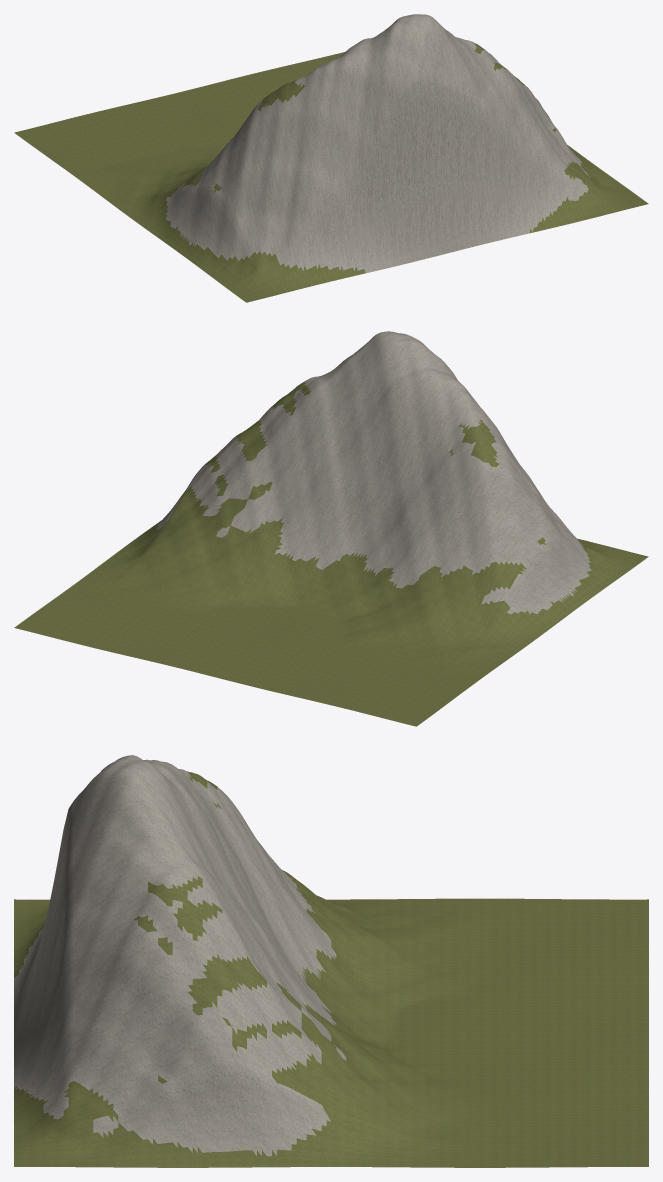
The model's file is terrain_ridge.obj.
3 renders of one model, top to bottom at view 1: azimuth 30°, elevation 25°; view 2: azimuth 150°, elevation 25°; view 3: azimuth 270°, elevation 25°, orthographic. The views are drawn at different scales.
Visible parts, largest first — view 1: Mountain_Granite, Meadow_Ground; view 2: Meadow_Ground, Mountain_Granite; view 3: Meadow_Ground, Mountain_Granite.
Part boxes in pixels (x1,y1,x2,y2): Mountain_Granite: (166,14,590,273); Meadow_Ground: (14,43,648,302); Meadow_Ground: (14,380,648,726); Mountain_Granite: (155,331,591,614); Meadow_Ground: (14,771,648,1167); Mountain_Granite: (14,755,346,1156).
Size of the model in its own units: 192 by 92.22 by 192.
